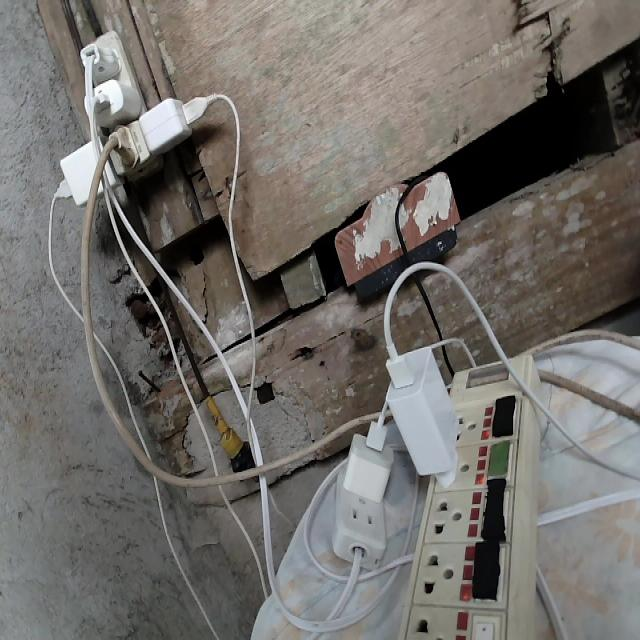-: (42, 25, 204, 208)
